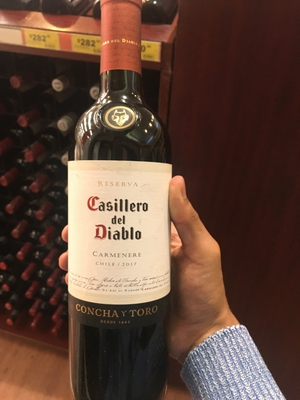casillero del diablo carmenere: (58, 17, 183, 393)
